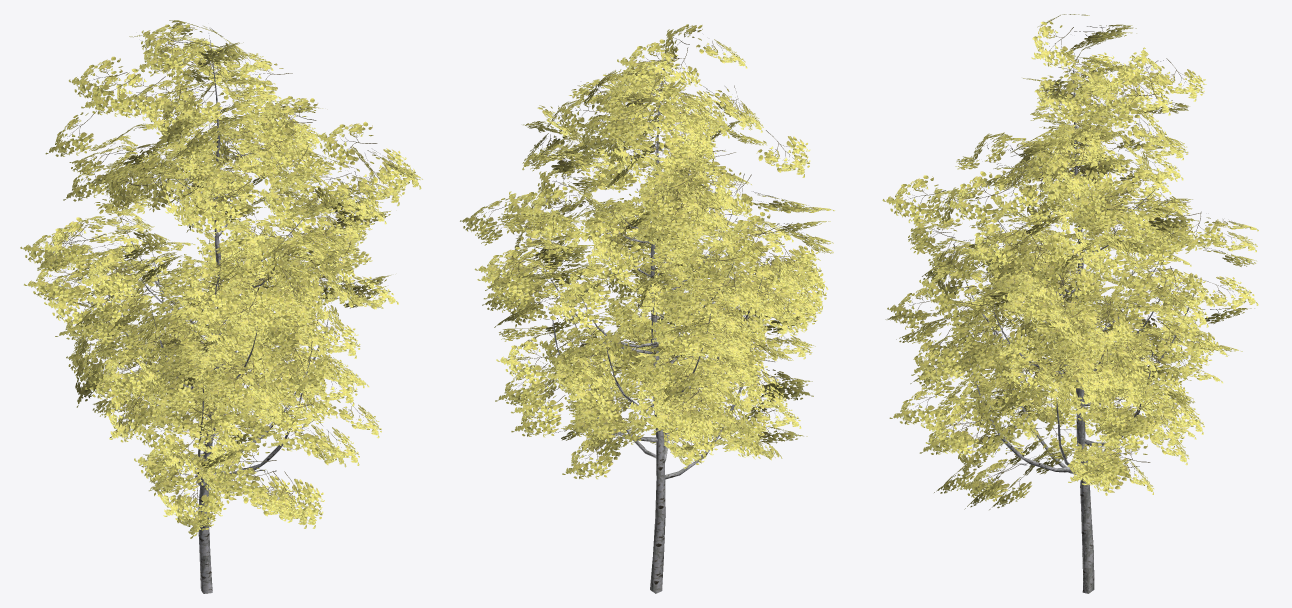
File: aspen-b.glb
3 renders of one model, left to right at view 1: azimuth 30°, elevation 25°; view 2: azimuth 150°, elevation 25°; view 3: azimuth 270°, elevation 25°, orthographic. The views are drawn at different scales.
Visible parts, largest first — view 1: aspen-b; view 2: aspen-b; view 3: aspen-b.
Part boxes in pixels (left/top/right/bottom): aspen-b: left=20, top=20, right=422, bottom=593; aspen-b: left=460, top=24, right=834, bottom=593; aspen-b: left=882, top=14, right=1258, bottom=593.
Bounding box in the file's own units: 8.44 × 12.89 × 8.41.
Materials: 2 (2 with a texture image).
